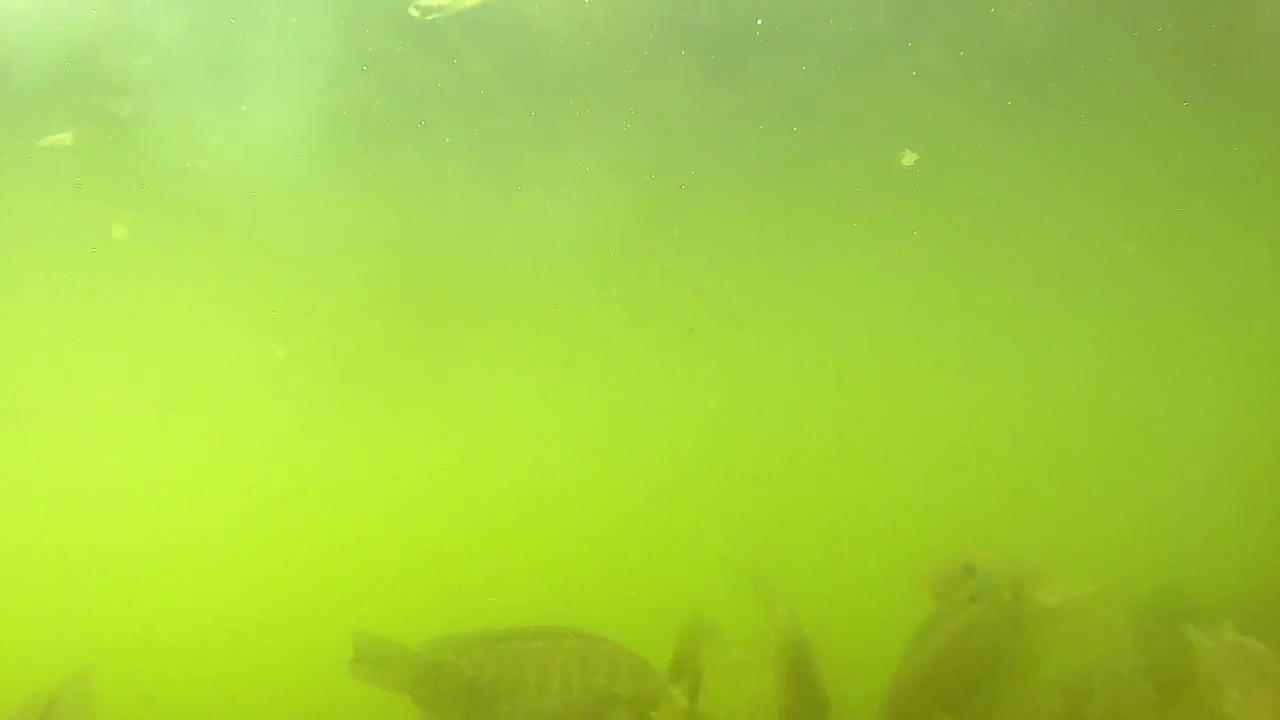Tilapia: (341, 610, 670, 720)
